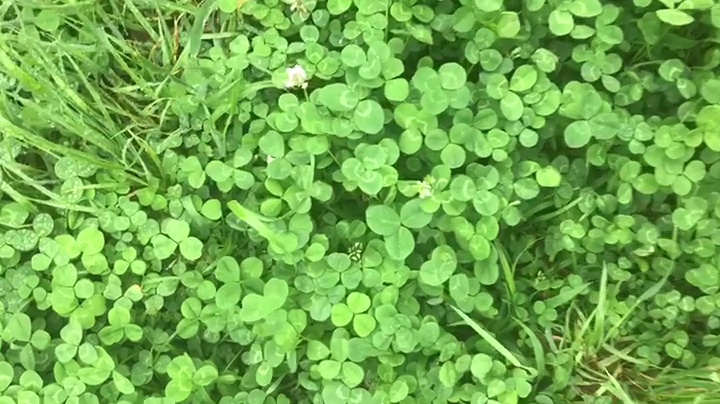4-clover: (413, 60, 473, 115)
